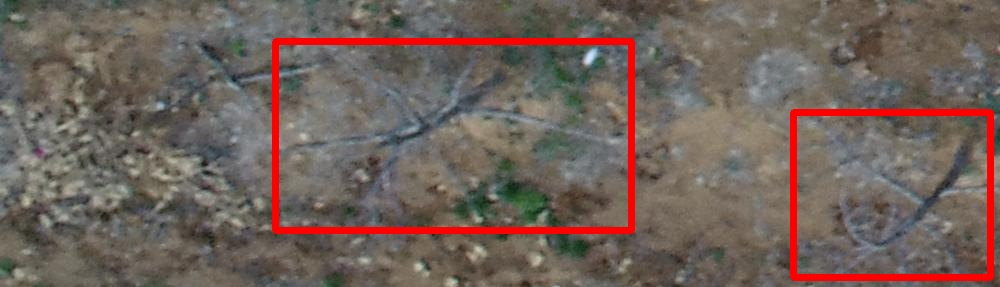apple: (275, 41, 631, 230), (793, 112, 990, 277)
